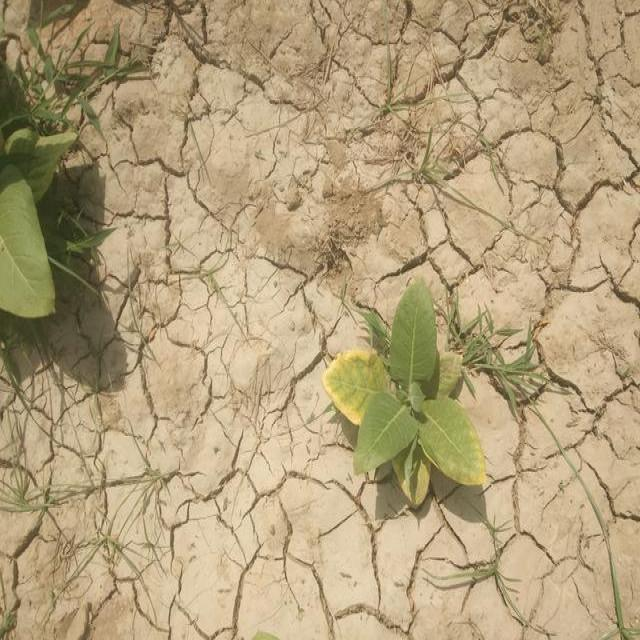crop: (330, 278, 484, 502), (0, 121, 78, 326)
